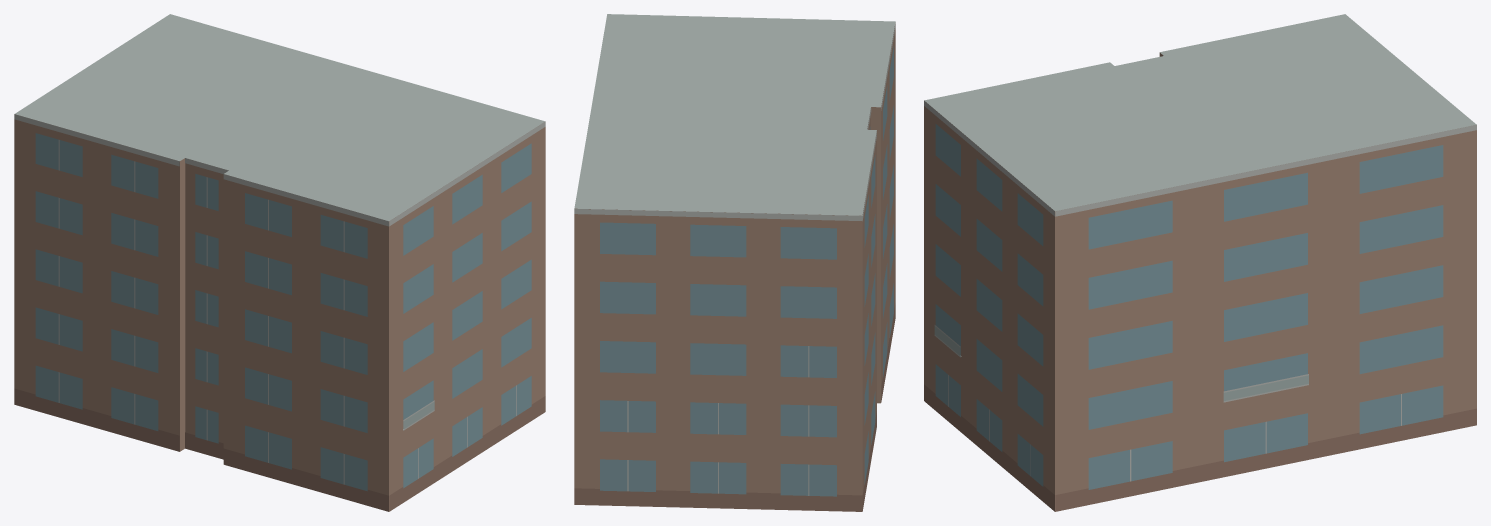
File: survey-upis-32746738.glb
3 renders of one model, left to right at view 1: azimuth 30°, elevation 25°; view 2: azimuth 150°, elevation 25°; view 3: azimuth 270°, elevation 25°, orthographic. The views are drawn at different scales.
Visible parts, largest first — view 1: survey-upis-32746738.tmp; view 2: survey-upis-32746738.tmp; view 3: survey-upis-32746738.tmp.
Part boxes in pixels (box(x1,y1,x2,y2)): survey-upis-32746738.tmp: box(14, 14, 545, 511); survey-upis-32746738.tmp: box(574, 14, 895, 511); survey-upis-32746738.tmp: box(924, 14, 1476, 511).
Size of the model in its own units: 19.01 by 13.5 by 22.51.
